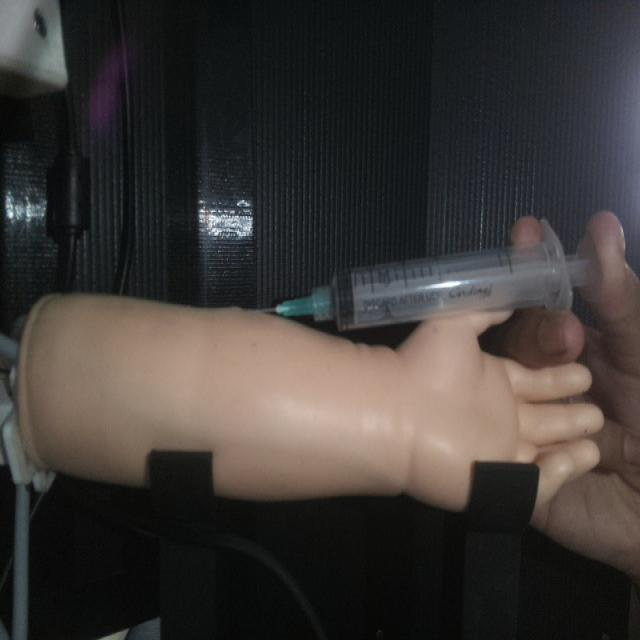Below 15 degrees: (258, 218, 597, 334)
